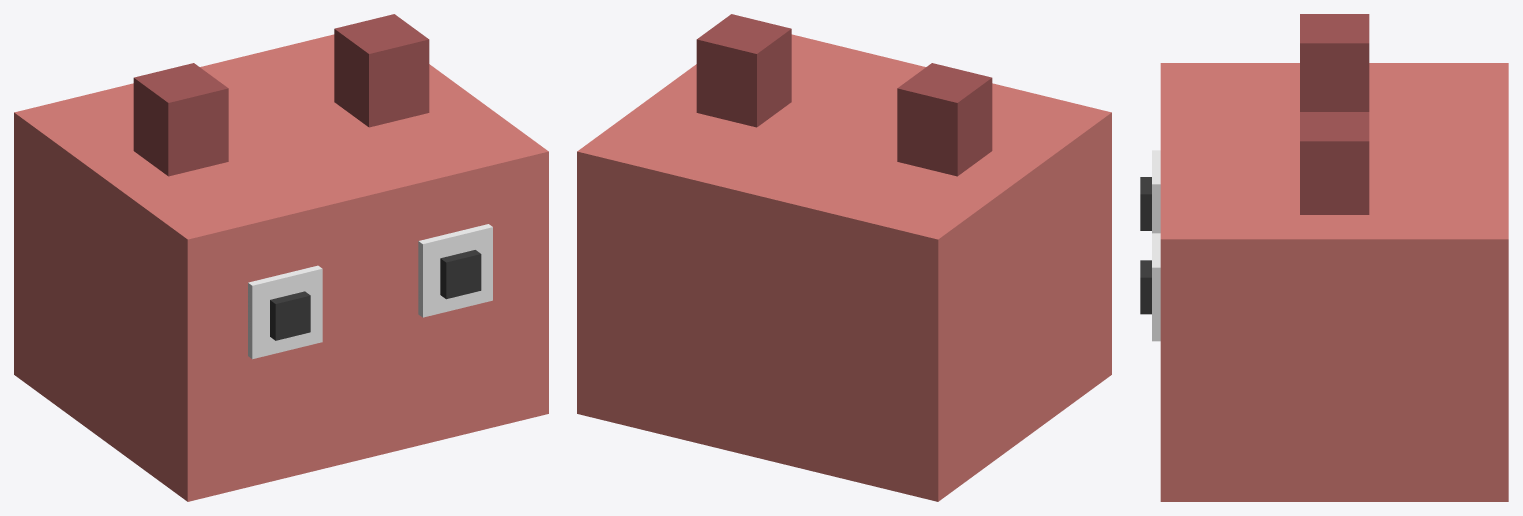
Rendered from enemy.glb.
3 views of the same model, side by side, from view 1: azimuth 30°, elevation 25°; view 2: azimuth 150°, elevation 25°; view 3: azimuth 270°, elevation 25° (orthographic).
Visible parts, largest first — view 1: BlobBody, SpikeR, SpikeL, EyeL, EyeR, PupilR, PupilL; view 2: BlobBody, SpikeR, SpikeL; view 3: BlobBody, SpikeR, SpikeL, EyeR, EyeL, PupilR, PupilL.
Part boxes in pixels (bbox=[...]): BlobBody: bbox=[14, 34, 548, 501]; SpikeR: bbox=[334, 14, 429, 127]; SpikeL: bbox=[133, 63, 228, 176]; EyeL: bbox=[248, 265, 322, 359]; EyeR: bbox=[418, 224, 492, 317]; PupilR: bbox=[440, 250, 481, 299]; PupilL: bbox=[270, 291, 310, 340]; BlobBody: bbox=[577, 34, 1111, 501]; SpikeR: bbox=[696, 14, 791, 127]; SpikeL: bbox=[897, 63, 992, 176]; BlobBody: bbox=[1160, 63, 1508, 501]; SpikeR: bbox=[1300, 112, 1369, 214]; SpikeL: bbox=[1300, 14, 1369, 111]; EyeR: bbox=[1152, 233, 1160, 341]; EyeL: bbox=[1152, 150, 1160, 233]; PupilR: bbox=[1140, 260, 1151, 314]; PupilL: bbox=[1140, 177, 1151, 230].
Bounding box in the file's own units: 0.72 × 0.64 × 0.635.
